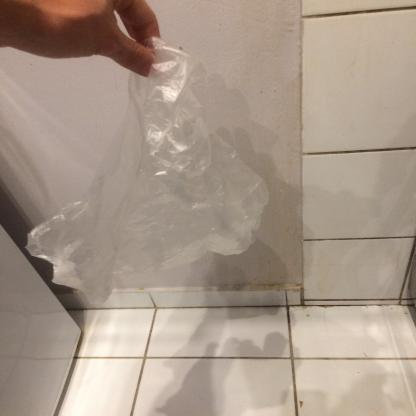trash: (17, 29, 282, 313)
